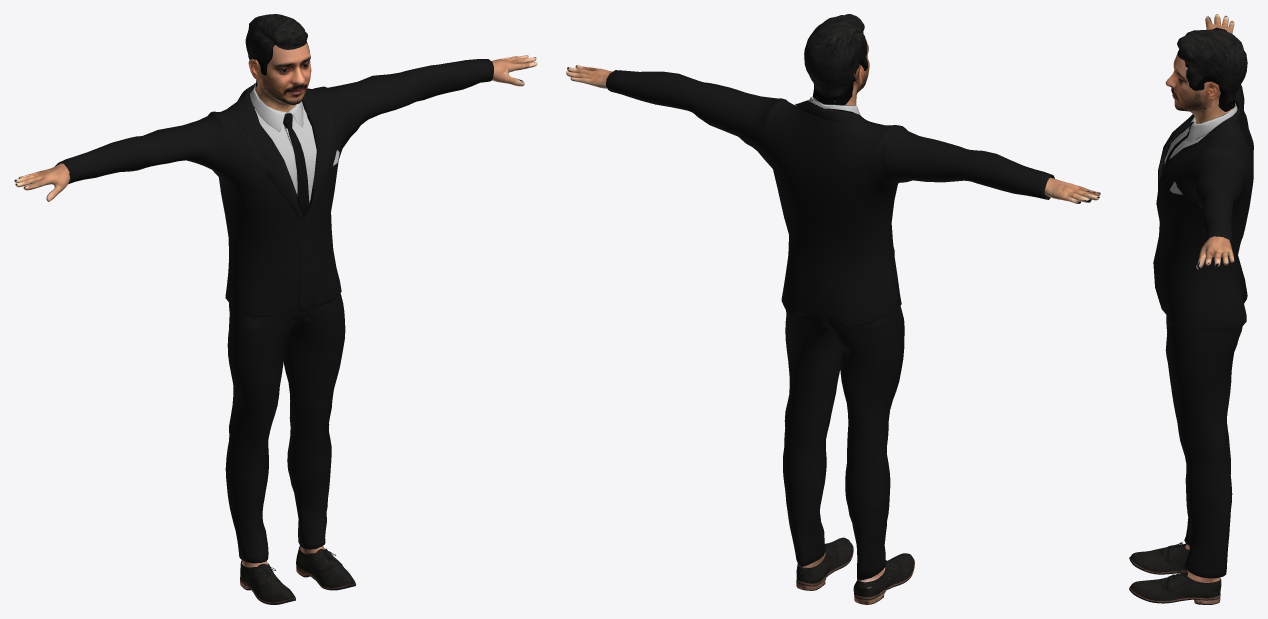
Rendered from qa-review-man.glb.
3 renders of one model, left to right at view 1: azimuth 30°, elevation 25°; view 2: azimuth 150°, elevation 25°; view 3: azimuth 270°, elevation 25°, orthographic. The views are drawn at different scales.
Parts seen in each view (by area): view 1: avaturn_look_0; view 2: avaturn_look_0; view 3: avaturn_look_0.
Part boxes in pixels (x1,y1,x2,y2): avaturn_look_0: [14, 14, 537, 604]; avaturn_look_0: [566, 14, 1100, 604]; avaturn_look_0: [1129, 14, 1253, 604].
Bounding box in the file's own units: 1.83 × 1.88 × 0.3848.
4 materials, 4 textured.
